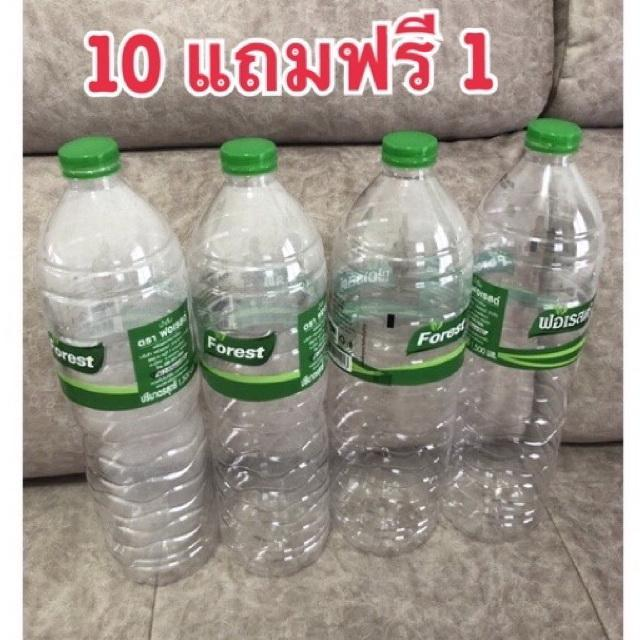PET Bottle: (166, 139, 344, 573), (44, 134, 212, 588), (470, 121, 633, 560), (328, 123, 465, 550)
